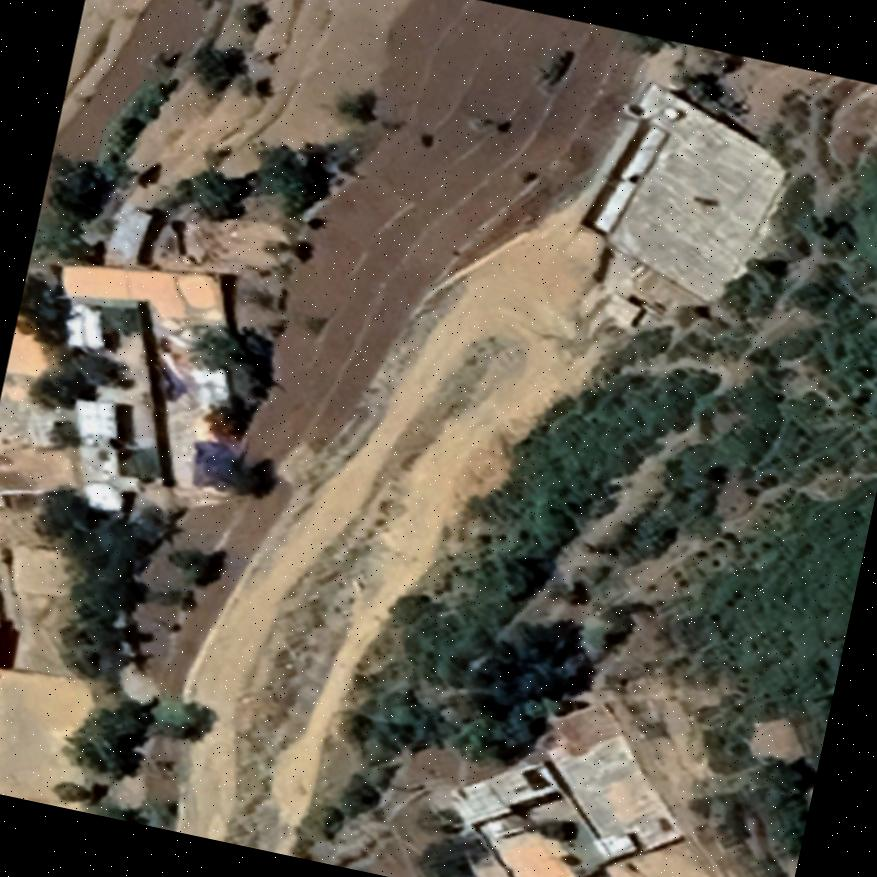Solarpanel: (514, 760, 556, 795)
